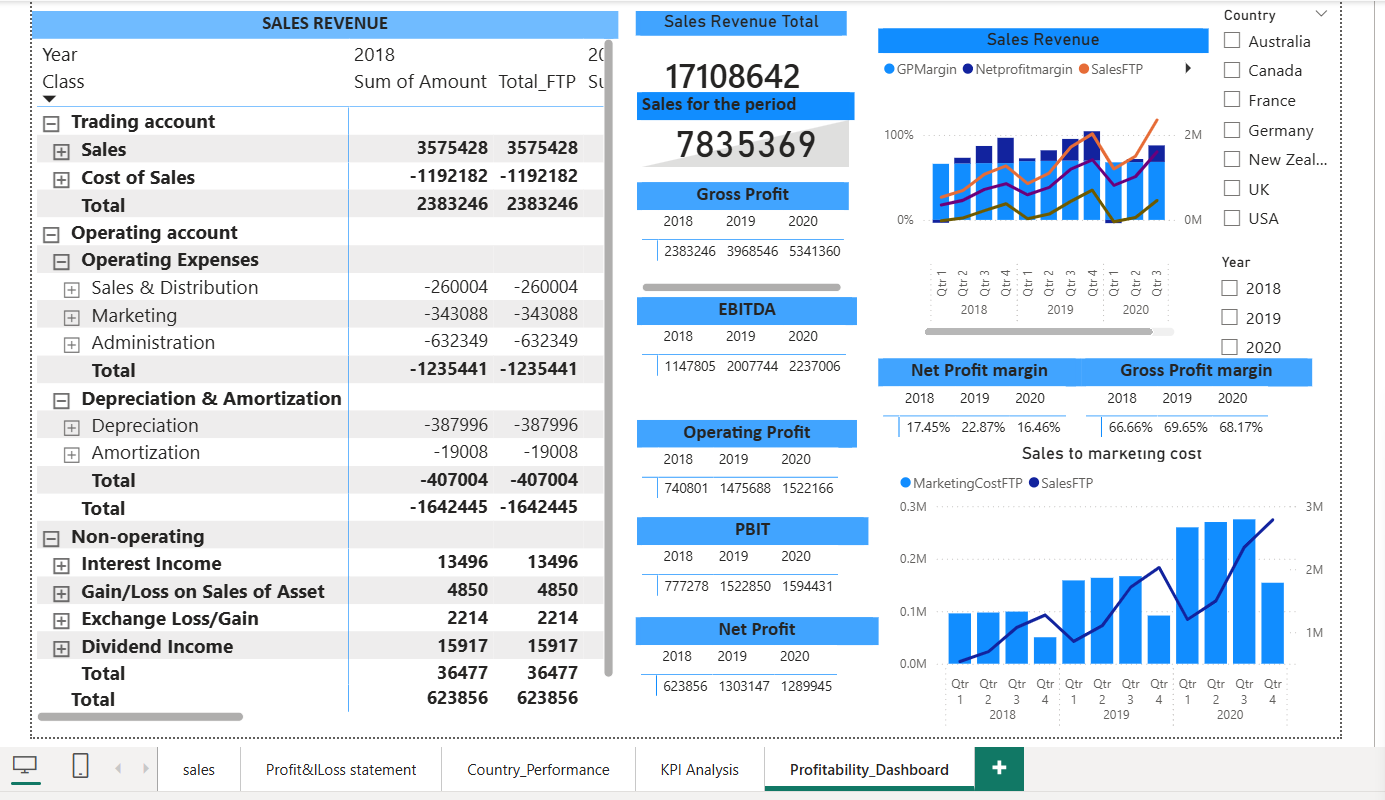

The page's visual inventory and layout, read from the dashboard file:
{"tool":"powerbi","page":{"name":"Profitability_Dashboard","canvas":[1280,720],"ordinal":4},"visuals":[{"type":"pivotTable","title":"SALES REVENUE","fields":{"Values":["Sum(tbl_GL.Amount)","tbl_GL.Total_FTP"],"Rows":["tbl_COA.Class","tbl_COA.SubClass","tbl_COA.SubClass2","tbl_COA.Account"],"Columns":["tbl_Calendar.Date.Variation.Date Hierarchy.Year","tbl_Calendar.Date.Variation.Date Hierarchy.Quarter","tbl_Calendar.Date.Variation.Date Hierarchy.Month","tbl_Calendar.Date.Variation.Date Hierarchy.Day"]},"box":[0,9.6,573.6,699.8],"z":0},{"type":"slicer","fields":{"Values":["tbl_territory.Country"]},"box":[1153.1,0,127.2,232.3],"z":1000},{"type":"pivotTable","title":"Gross Profit","fields":{"Values":["Sum(tbl_GL.Amount)"],"Columns":["tbl_Calendar.Date.Variation.Date Hierarchy.Year","tbl_Calendar.Date.Variation.Date Hierarchy.Quarter","tbl_Calendar.Date.Variation.Date Hierarchy.Month","tbl_Calendar.Date.Variation.Date Hierarchy.Day"]},"box":[591.4,177,207.2,112.5],"z":2000},{"type":"pivotTable","title":"Operating Profit","fields":{"Values":["Sum(tbl_GL.Amount)"],"Columns":["tbl_Calendar.Date.Variation.Date Hierarchy.Year","tbl_Calendar.Date.Variation.Date Hierarchy.Quarter","tbl_Calendar.Date.Variation.Date Hierarchy.Month","tbl_Calendar.Date.Variation.Date Hierarchy.Day"]},"box":[591.9,409.6,215.2,95.4],"z":3000},{"type":"pivotTable","title":"PBIT","fields":{"Values":["Sum(tbl_GL.Amount)"],"Columns":["tbl_Calendar.Date.Variation.Date Hierarchy.Year","tbl_Calendar.Date.Variation.Date Hierarchy.Quarter","tbl_Calendar.Date.Variation.Date Hierarchy.Month","tbl_Calendar.Date.Variation.Date Hierarchy.Day"]},"box":[591.9,505,226.2,85.6],"z":4000},{"type":"pivotTable","title":"Net Profit","fields":{"Values":["Sum(tbl_GL.Amount)"],"Columns":["tbl_Calendar.Date.Variation.Date Hierarchy.Year","tbl_Calendar.Date.Variation.Date Hierarchy.Quarter","tbl_Calendar.Date.Variation.Date Hierarchy.Month","tbl_Calendar.Date.Variation.Date Hierarchy.Day"]},"box":[590.6,602.9,237.2,117.4],"z":5000},{"type":"pivotTable","title":"EBITDA","fields":{"Values":["Sum(tbl_GL.Amount)"],"Columns":["tbl_Calendar.Date.Variation.Date Hierarchy.Year","tbl_Calendar.Date.Variation.Date Hierarchy.Quarter","tbl_Calendar.Date.Variation.Date Hierarchy.Month","tbl_Calendar.Date.Variation.Date Hierarchy.Day"]},"box":[591.9,289.8,215.2,119.8],"z":6000},{"type":"cardVisual","title":"Sales Revenue Total","fields":{"Data":["Sum(tbl_GL.Amount)"]},"box":[590.6,9.8,206.7,102.7],"z":7000},{"type":"kpi","title":"Sales for the period","fields":{"Indicator":["Sum(tbl_GL.Amount)"],"TrendLine":["tbl_Calendar.Date.Variation.Date Hierarchy.Year"]},"box":[591.4,89.2,212.7,78.2],"z":8000},{"type":"slicer","fields":{"Values":["tbl_Calendar.Year"]},"box":[1150.7,242.1,129.6,150.4],"z":9000},{"type":"lineStackedColumnComboChart","title":"Sales Revenue","fields":{"Category":["tbl_Calendar.Date.Variation.Date Hierarchy.Year","tbl_Calendar.Date.Variation.Date Hierarchy.Quarter","tbl_Calendar.Date.Variation.Date Hierarchy.Month","tbl_Calendar.Date.Variation.Date Hierarchy.Day"],"Y2":["tbl_GL.SalesFTP","tbl_GL.Grossprofit","tbl_GL.Netprofit"],"Y":["tbl_GL.GPMargin","tbl_GL.Netprofitmargin"]},"box":[827.9,26.9,322.8,305.7],"z":10000},{"type":"lineStackedColumnComboChart","title":"Sales to marketing cost","fields":{"Category":["tbl_Calendar.Date.Variation.Date Hierarchy.Year","tbl_Calendar.Date.Variation.Date Hierarchy.Quarter","tbl_Calendar.Date.Variation.Date Hierarchy.Month","tbl_Calendar.Date.Variation.Date Hierarchy.Day"],"Y2":["tbl_GL.SalesFTP"],"Y":["tbl_GL.MarketingCostFTP"]},"box":[843.8,431.7,425.5,288.6],"z":11000},{"type":"pivotTable","title":"Gross Profit margin","fields":{"Columns":["tbl_Calendar.Date.Variation.Date Hierarchy.Year","tbl_Calendar.Date.Variation.Date Hierarchy.Quarter","tbl_Calendar.Date.Variation.Date Hierarchy.Month","tbl_Calendar.Date.Variation.Date Hierarchy.Day"],"Values":["tbl_GL.GPMargin"]},"box":[1026,349.7,226.2,89.3],"z":12000},{"type":"pivotTable","title":"Net Profit margin","fields":{"Columns":["tbl_Calendar.Date.Variation.Date Hierarchy.Year","tbl_Calendar.Date.Variation.Date Hierarchy.Quarter","tbl_Calendar.Date.Variation.Date Hierarchy.Month","tbl_Calendar.Date.Variation.Date Hierarchy.Day"],"Values":["tbl_GL.Netprofitmargin"]},"box":[827.9,349.7,198.1,81.9],"z":13000}]}

Visuals, with their boxes on the page's 1280x720 design canvas (x1, y1, x2, y2). These are canvas units, not pixel positions in the 1385x800 screenshot, which may show the page scaled, cropped or inside an application window:
"SALES REVENUE" pivotTable: [x1=0, y1=10, x2=574, y2=709]
slicer - tbl_territory.Country: [x1=1153, y1=0, x2=1280, y2=232]
"Gross Profit" pivotTable: [x1=591, y1=177, x2=799, y2=290]
"Operating Profit" pivotTable: [x1=592, y1=410, x2=807, y2=505]
"PBIT" pivotTable: [x1=592, y1=505, x2=818, y2=591]
"Net Profit" pivotTable: [x1=591, y1=603, x2=828, y2=720]
"EBITDA" pivotTable: [x1=592, y1=290, x2=807, y2=410]
"Sales Revenue Total" cardVisual: [x1=591, y1=10, x2=797, y2=112]
"Sales for the period" kpi: [x1=591, y1=89, x2=804, y2=167]
slicer - tbl_Calendar.Year: [x1=1151, y1=242, x2=1280, y2=392]
"Sales Revenue" lineStackedColumnComboChart: [x1=828, y1=27, x2=1151, y2=333]
"Sales to marketing cost" lineStackedColumnComboChart: [x1=844, y1=432, x2=1269, y2=720]
"Gross Profit margin" pivotTable: [x1=1026, y1=350, x2=1252, y2=439]
"Net Profit margin" pivotTable: [x1=828, y1=350, x2=1026, y2=432]
